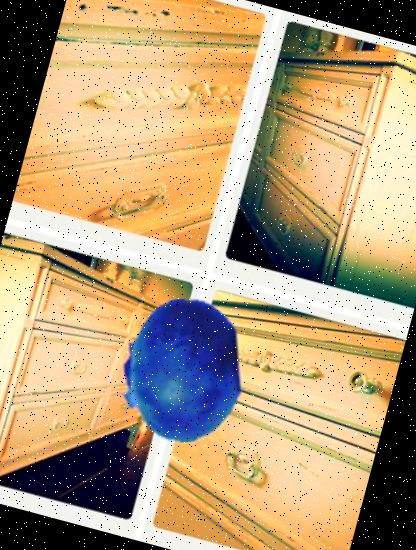Huckleberry: (93, 283, 269, 460)
